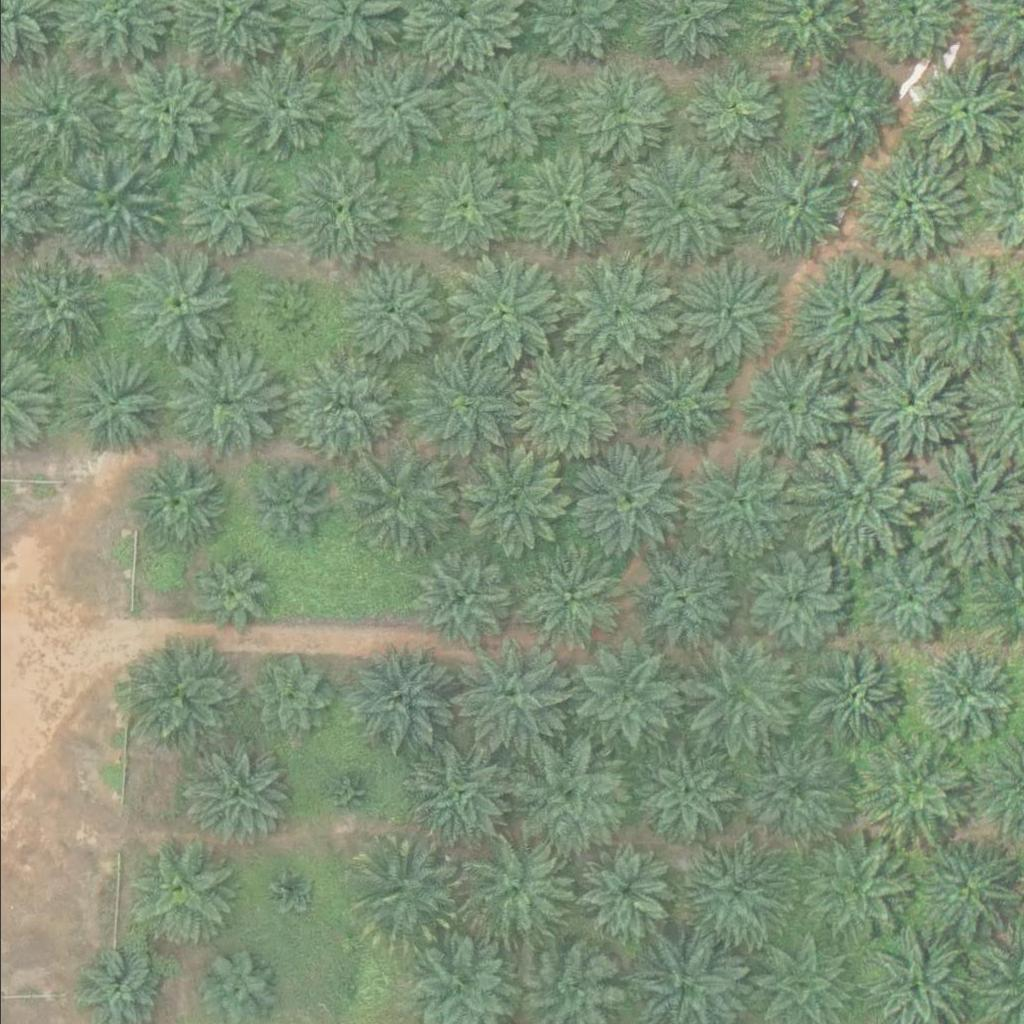Kelapa_Sawit: (795, 834, 909, 947), (675, 837, 789, 950), (286, 351, 400, 464), (445, 257, 559, 370), (852, 150, 965, 263), (793, 260, 906, 373), (797, 442, 910, 555), (909, 833, 1022, 946), (566, 641, 679, 754), (453, 641, 566, 754), (338, 644, 451, 757), (517, 539, 630, 652), (506, 355, 619, 468), (411, 349, 524, 462), (671, 256, 784, 369), (555, 260, 668, 373), (736, 147, 849, 260), (622, 152, 735, 265), (120, 249, 233, 362), (163, 345, 276, 458), (59, 349, 172, 462), (125, 644, 238, 757), (846, 737, 960, 849), (507, 153, 621, 265), (107, 58, 221, 170), (124, 836, 238, 948), (349, 835, 462, 947), (907, 259, 1020, 371), (859, 351, 972, 463), (738, 733, 851, 845), (459, 833, 572, 945), (513, 733, 626, 845), (406, 737, 519, 849), (684, 636, 797, 748), (680, 448, 793, 560), (569, 445, 682, 557), (457, 450, 570, 562), (350, 449, 463, 561), (735, 355, 848, 467), (282, 155, 395, 267), (445, 54, 558, 166), (335, 58, 448, 170), (226, 52, 339, 164), (50, 150, 163, 262), (175, 737, 288, 849), (797, 58, 898, 158), (859, 548, 960, 648), (740, 550, 841, 650), (798, 650, 899, 750), (574, 842, 675, 942), (633, 744, 734, 844), (636, 550, 737, 650), (409, 551, 510, 651), (630, 360, 731, 460), (173, 160, 274, 260), (912, 645, 1012, 745), (342, 265, 442, 365), (411, 158, 511, 258), (679, 59, 779, 159), (565, 64, 665, 164), (131, 460, 220, 548), (242, 656, 330, 743), (244, 469, 320, 544), (194, 555, 269, 630), (254, 286, 317, 348), (321, 771, 372, 821), (265, 865, 316, 915), (329, 962, 379, 1012)
